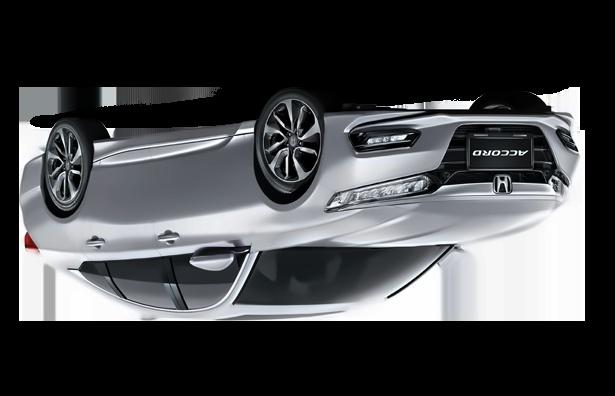Car hood: (266, 191, 561, 253)
Fender - -F-R-: (228, 136, 335, 273)
Fender - -R-L-: (21, 184, 108, 281)
Front bumper: (319, 106, 580, 181)
Headlight - -L-: (320, 170, 439, 214)
Passenger-s door - -F-L-: (158, 109, 265, 322)
Passenger-s door - -R-L-: (87, 118, 194, 316)
Rear bumper: (18, 141, 48, 213)
Side bumper - -L-: (80, 114, 269, 200)
Side mirror - -L-: (189, 244, 248, 274)
